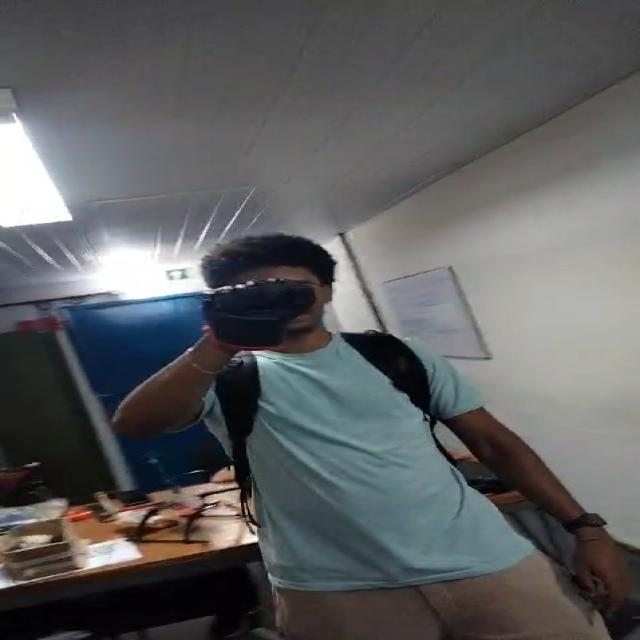Gloves: (199, 279, 315, 353)
